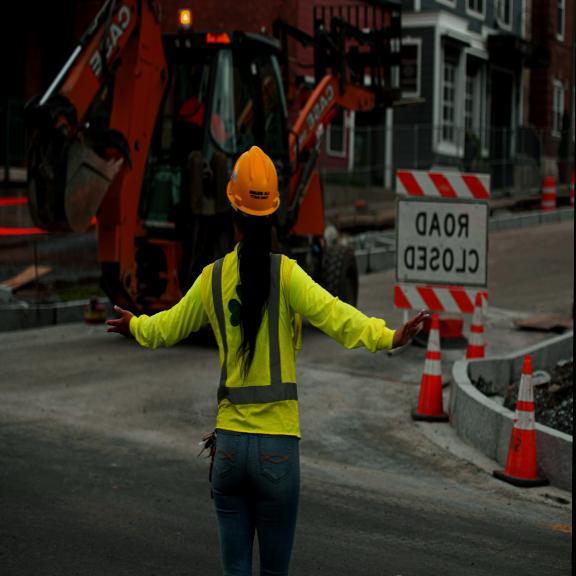safety_vest: (184, 249, 322, 455)
